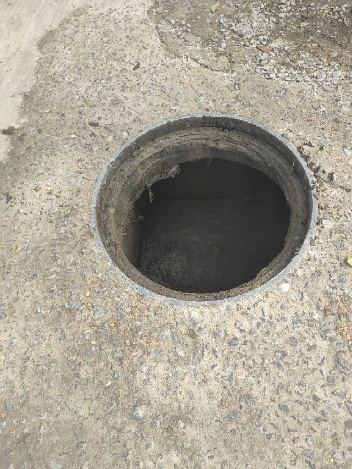lose: (92, 114, 316, 305)
